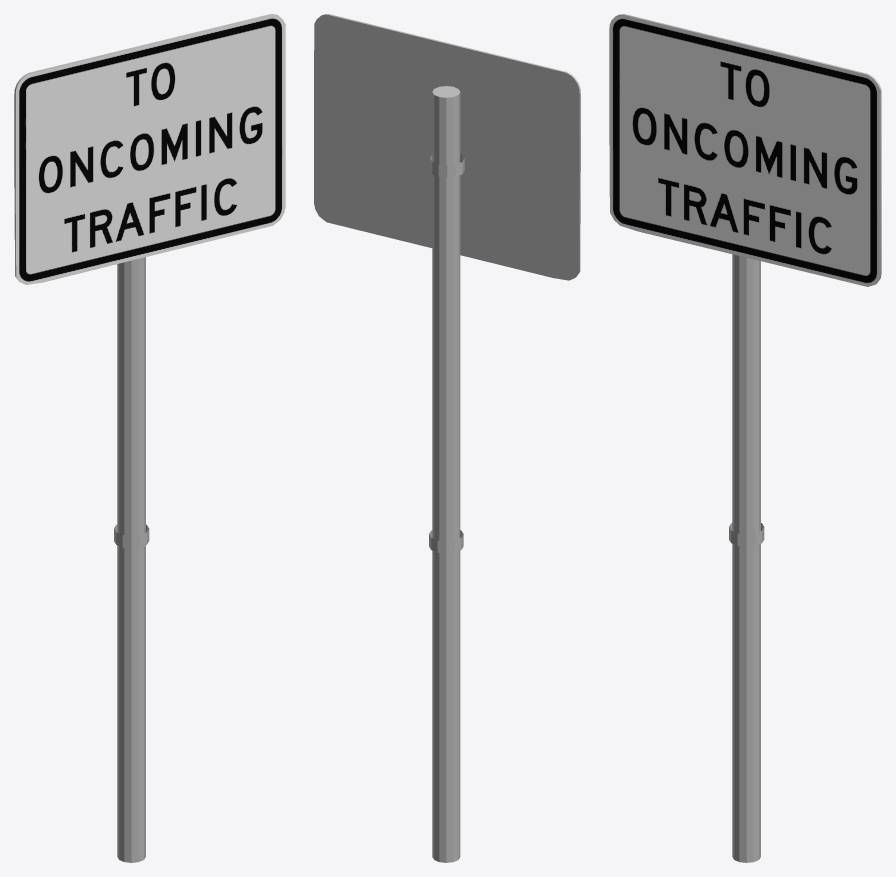
Rendered from SM_warning_sign_04.fbx.
3 views of the same model, side by side, from view 1: azimuth 30°, elevation 25°; view 2: azimuth 150°, elevation 25°; view 3: azimuth 330°, elevation 25° (orthographic). The views are drawn at different scales.
Parts seen in each view (by area): view 1: warning_sign_04; view 2: warning_sign_04; view 3: warning_sign_04.
Part boxes in pixels (bbox=[...]): warning_sign_04: bbox=[14, 14, 285, 862]; warning_sign_04: bbox=[314, 14, 580, 862]; warning_sign_04: bbox=[609, 14, 881, 862].
Bounding box in the file's own units: 106 × 308 × 13.08.
